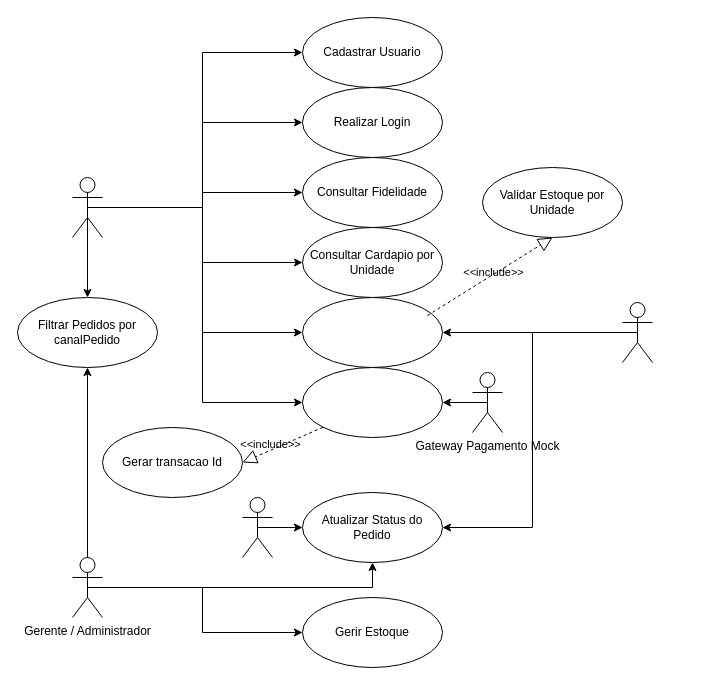
The diagram is 706 pixels wide and 685 high, and some of its shapes have lost their labels. The centre of each missing label's shape, as x and y in pixels:
Atendente (Balcao): the point at 637,332
Cliente (App/Web/Totem): the point at 87,207
Cozinha: the point at 257,527
Realizar Pedido: the point at 372,332
Solicitar Pagamento mock: the point at 372,402
